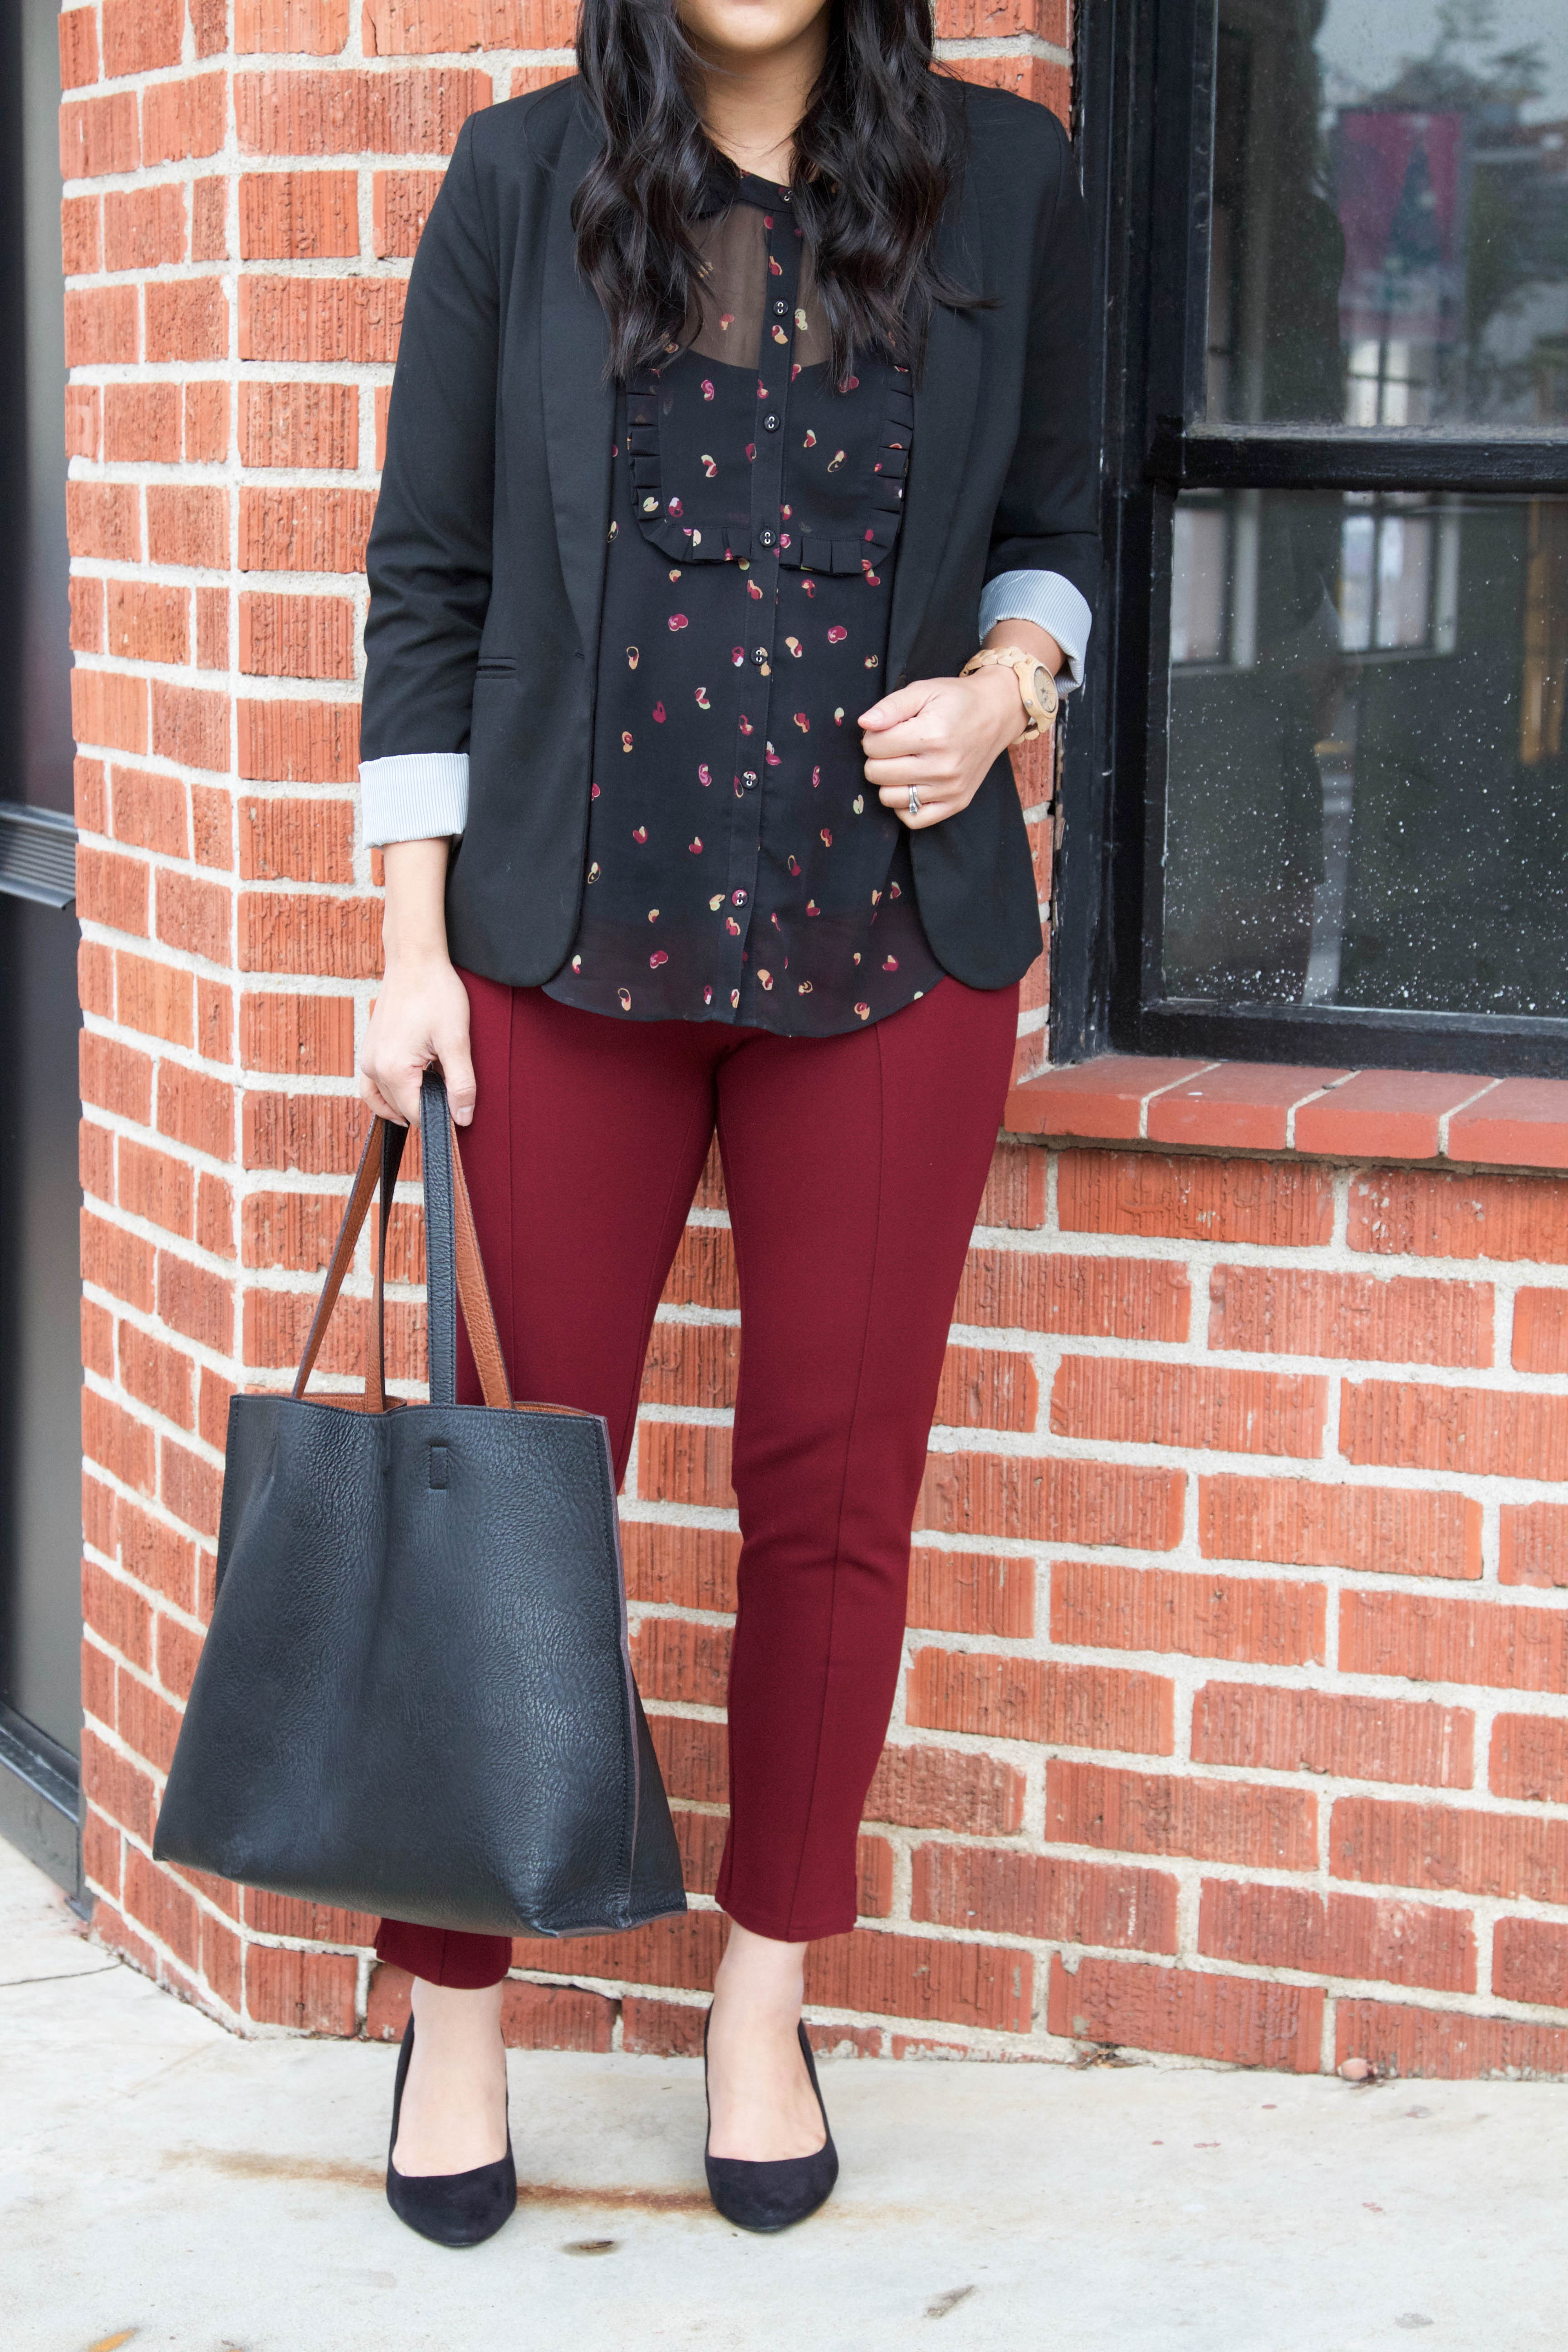F_W_suit jacket: (320, 87, 1181, 1025)
